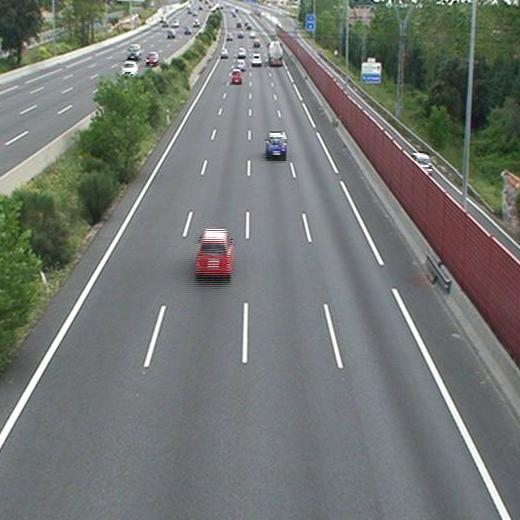car: (197, 231, 230, 274), (265, 133, 287, 157), (231, 69, 242, 82), (251, 53, 261, 66), (219, 48, 229, 58), (237, 59, 246, 69), (237, 48, 245, 57)
tank-truck: (269, 41, 282, 65)
